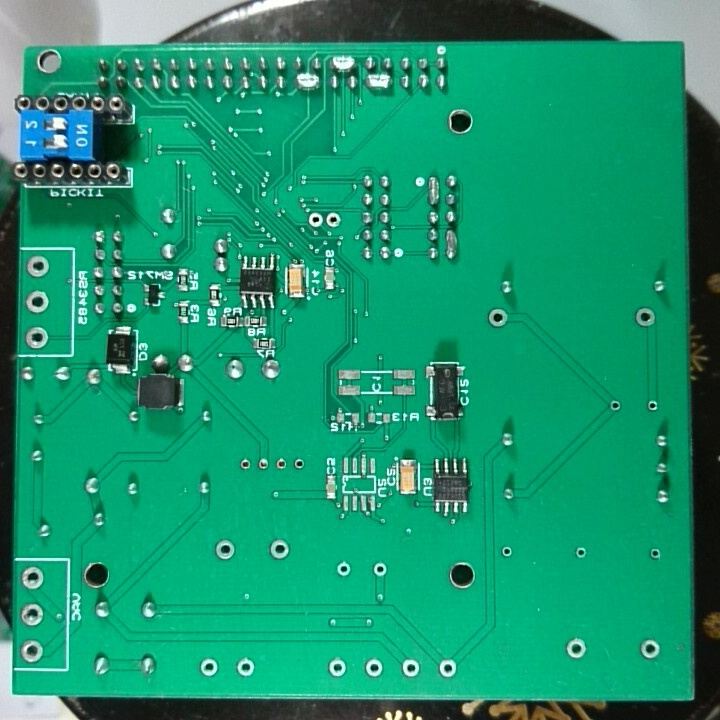F: (19, 600, 45, 632), (17, 636, 44, 665), (18, 564, 46, 591), (24, 289, 51, 317), (563, 635, 588, 663), (22, 326, 51, 350), (634, 304, 657, 331), (25, 254, 49, 279), (213, 538, 237, 562), (268, 538, 291, 563), (233, 655, 257, 678), (486, 306, 509, 330), (325, 656, 349, 678), (198, 655, 219, 680), (639, 638, 660, 662), (437, 656, 458, 680), (399, 657, 421, 679), (363, 657, 384, 679), (271, 452, 290, 475), (305, 209, 324, 229), (325, 209, 342, 231), (291, 453, 306, 476), (371, 560, 389, 579), (335, 560, 352, 579), (255, 455, 272, 473), (647, 545, 663, 562), (574, 544, 590, 561), (499, 543, 514, 560), (237, 457, 254, 472), (645, 398, 659, 415), (607, 398, 621, 415)
P: (362, 72, 394, 92), (328, 53, 359, 73), (294, 71, 323, 92), (443, 226, 459, 262), (426, 174, 442, 206)
